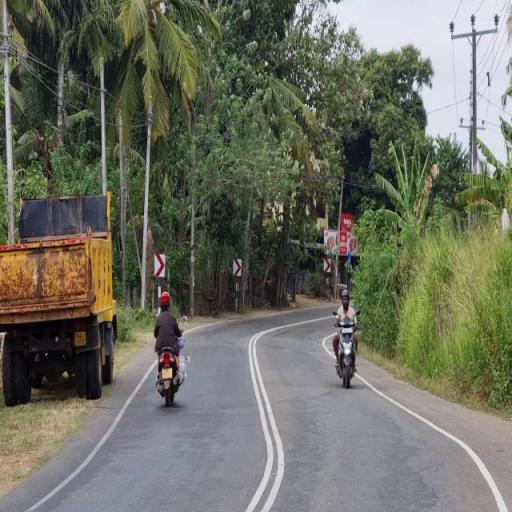double_white_line: (22, 358, 155, 511), (242, 326, 290, 512)
